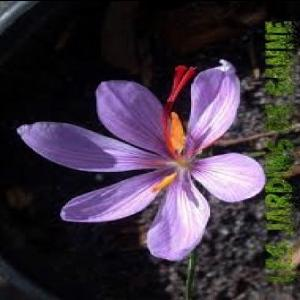Saffron: (18, 60, 262, 264)
